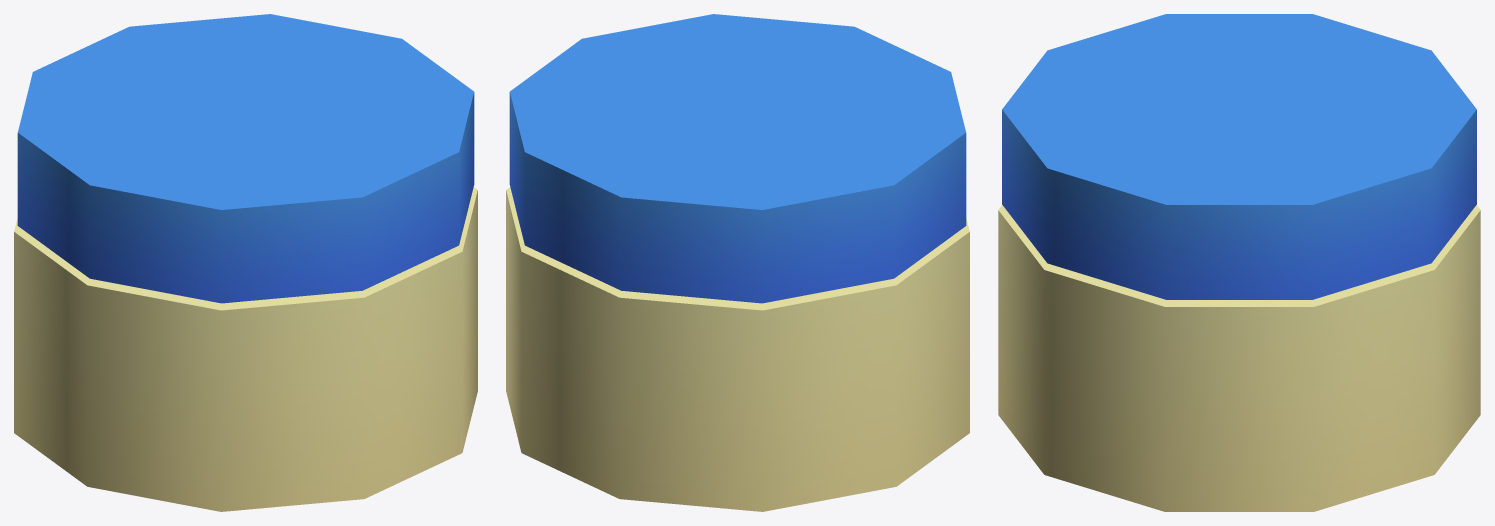
File: cream_jar_yellow.fbx
3 renders of one model, left to right at view 1: azimuth 30°, elevation 25°; view 2: azimuth 150°, elevation 25°; view 3: azimuth 270°, elevation 25°, orthographic.
Parts seen in each view (by area): view 1: cream_jar_yellow; view 2: cream_jar_yellow; view 3: cream_jar_yellow.
Boxes of the visible parts, x1,y1,x2,y2 form: cream_jar_yellow: (14,14,477,511); cream_jar_yellow: (506,14,969,511); cream_jar_yellow: (998,14,1480,511).
Bounding box in the file's own units: 127 × 93.48 × 134.
